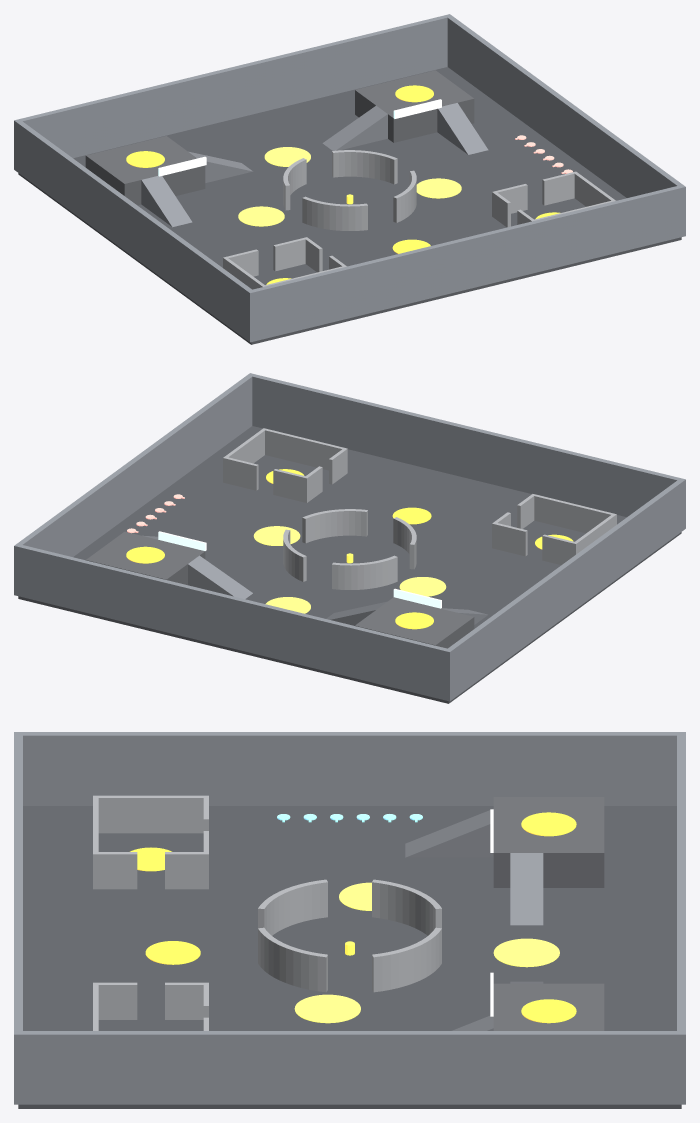
File: nest_loop.glb
3 renders of one model, top to bottom at view 1: azimuth 30°, elevation 25°; view 2: azimuth 150°, elevation 25°; view 3: azimuth 270°, elevation 25°, orthographic. The views are drawn at different scales.
Visible parts, largest first — view 1: floor, perimeter.S0, perimeter.N0, perimeter.W0, perimeter.E0, nest_1_floor, nest_3_floor, loop_inner.0, loop_inner.2, nest_1_ramp_a, nest_3_ramp_b, nest_1_ramp_b (+15 smaller); view 2: floor, perimeter.N0, perimeter.S0, perimeter.W0, perimeter.E0, nest_3_floor, nest_1_floor, nest_4_walls.S0, nest_2_walls.S0, loop_inner.1, loop_inner.3, nest_1_ramp_a (+15 smaller); view 3: floor, perimeter.E0, perimeter.W0, nest_3_floor, nest_1_floor, nest_2_walls.W0, perimeter.S0, perimeter.N0, loop_inner.0, loop_inner.3, nest_3_ramp_b, loop_inner.1 (+14 smaller).
Boxes of the visible parts, x1,y1,x2,y2 form: floor: (18, 67, 681, 344); perimeter.S0: (247, 184, 685, 342); perimeter.N0: (14, 14, 452, 171); perimeter.W0: (14, 119, 254, 342); perimeter.E0: (445, 14, 685, 236); nest_1_floor: (355, 70, 474, 142); nest_3_floor: (85, 136, 205, 205); loop_inner.0: (332, 150, 397, 184); loop_inner.2: (302, 196, 367, 230); nest_1_ramp_a: (322, 105, 387, 150); nest_3_ramp_b: (141, 176, 192, 227); nest_1_ramp_b: (437, 103, 488, 154); floor: (18, 426, 681, 703); perimeter.N0: (14, 543, 452, 701); perimeter.S0: (247, 373, 685, 517); perimeter.W0: (444, 478, 685, 700); perimeter.E0: (14, 373, 254, 595); nest_3_floor: (355, 597, 474, 648); nest_1_floor: (86, 531, 205, 585); nest_4_walls.S0: (262, 428, 347, 474); nest_2_walls.S0: (531, 494, 616, 533); loop_inner.1: (332, 555, 397, 589); loop_inner.3: (302, 509, 367, 543); nest_1_ramp_a: (188, 555, 252, 598); floor: (18, 806, 681, 1108); perimeter.E0: (14, 1031, 685, 1104); perimeter.W0: (14, 732, 685, 805); nest_3_floor: (493, 797, 604, 887); nest_1_floor: (493, 983, 604, 1030); nest_2_walls.W0: (98, 795, 208, 833); perimeter.S0: (14, 732, 22, 1104); perimeter.N0: (677, 732, 685, 1104); loop_inner.0: (372, 927, 441, 992); loop_inner.3: (258, 927, 327, 992); nest_3_ramp_b: (405, 809, 493, 857); loop_inner.1: (372, 879, 441, 935).
Size of the model in its own units: 64.8 by 7.6 by 60.8.
